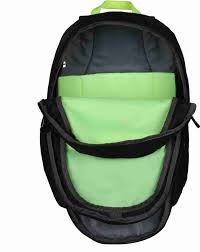backpack: (37, 0, 199, 244)
